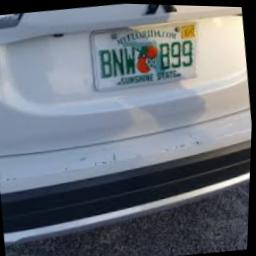Bumper: (0, 127, 221, 192)
